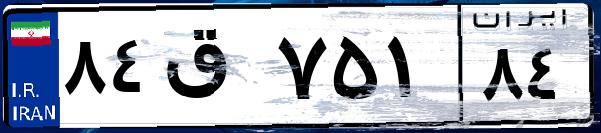1: (385, 28, 445, 110)
4: (525, 38, 570, 115), (110, 28, 158, 98)
5: (330, 28, 385, 110)
7: (270, 28, 330, 110)
8: (57, 26, 110, 100), (475, 38, 525, 113)
ق: (158, 20, 270, 120)
